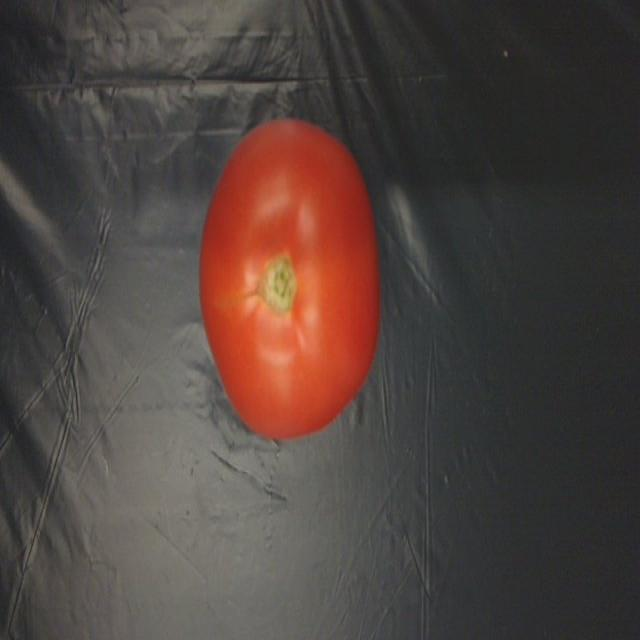kirmizi: (180, 78, 389, 442)
